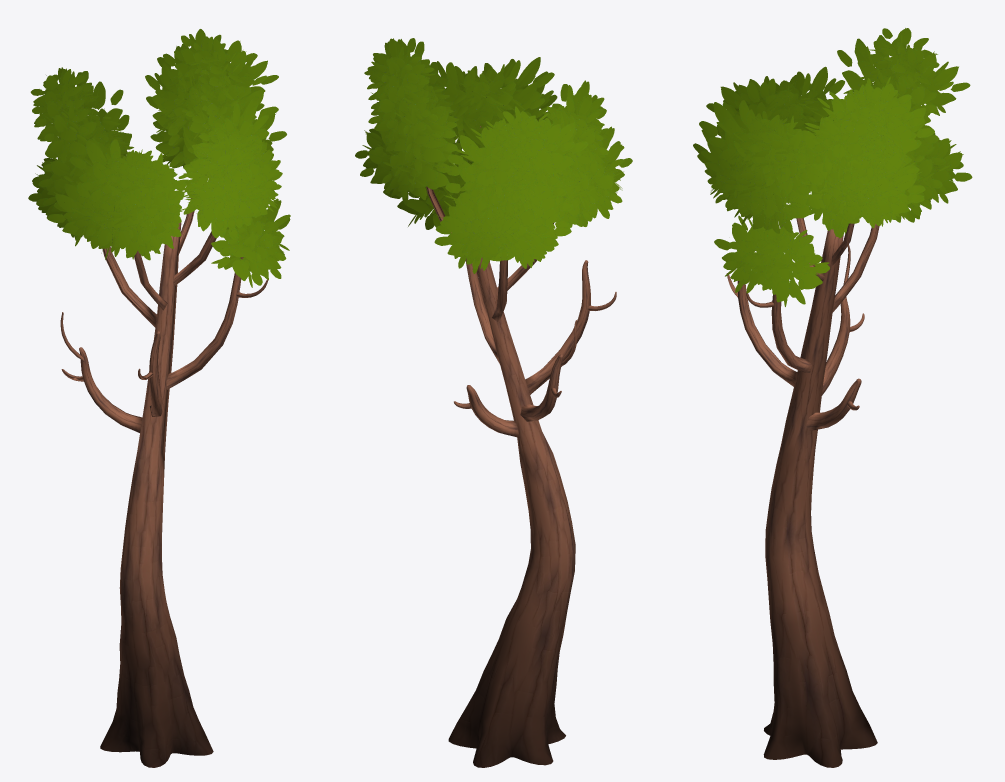
Rendered from commontree_4.glb.
3 renders of one model, left to right at view 1: azimuth 30°, elevation 25°; view 2: azimuth 150°, elevation 25°; view 3: azimuth 270°, elevation 25°, orthographic. The views are drawn at different scales.
Visible parts, largest first — view 1: CommonTree_4; view 2: CommonTree_4; view 3: CommonTree_4.
Part boxes in pixels (x1,y1,x2,y2): CommonTree_4: (28, 29, 290, 767); CommonTree_4: (355, 38, 632, 767); CommonTree_4: (693, 28, 972, 767).
Size of the model in its own units: 3.83 by 9.44 by 3.76.
Materials: 2 (2 with a texture image).
